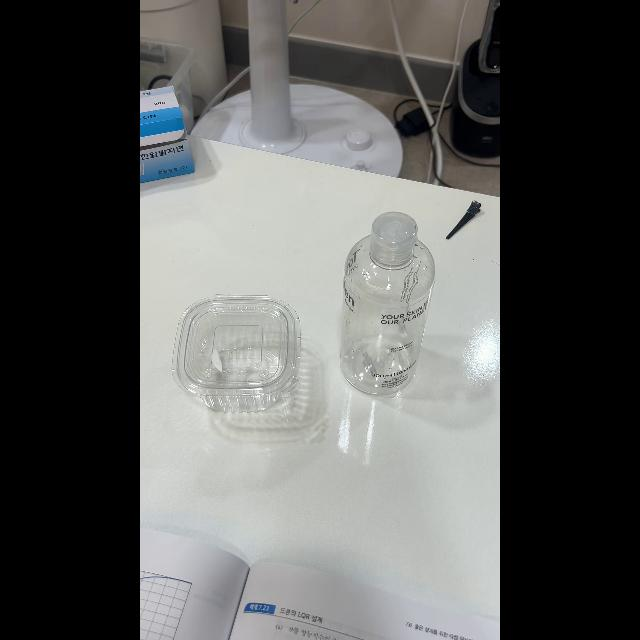clean: (344, 217, 436, 395), (176, 304, 304, 408)
